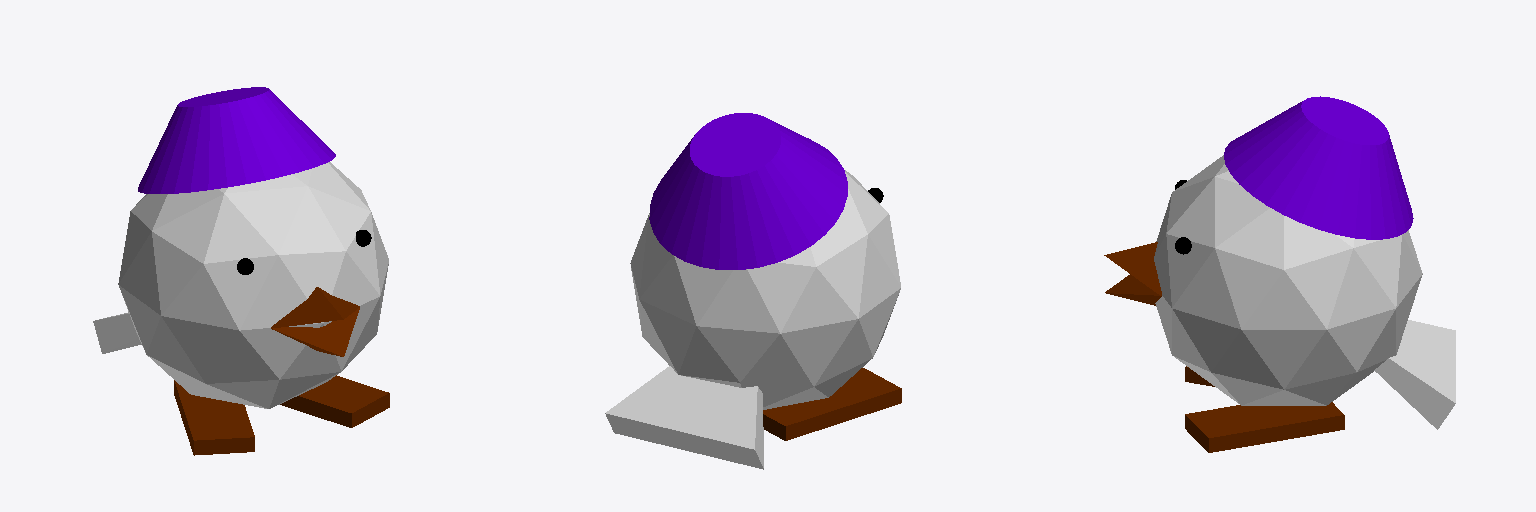
3 views of the same model, side by side, from view 1: azimuth 30°, elevation 25°; view 2: azimuth 150°, elevation 25°; view 3: azimuth 270°, elevation 25° (orthographic).
Visible parts, largest first — view 1: ICO球; view 2: ICO球; view 3: ICO球.
Boxes of the visible parts, x1=… form: ICO球: x1=93, y1=87, x2=389, y2=455; ICO球: x1=605, y1=113, x2=901, y2=469; ICO球: x1=1104, y1=96, x2=1455, y2=452.
Bounding box in the file's own units: 1.52 × 1.9 × 2.03.
1 materials, 1 textured.